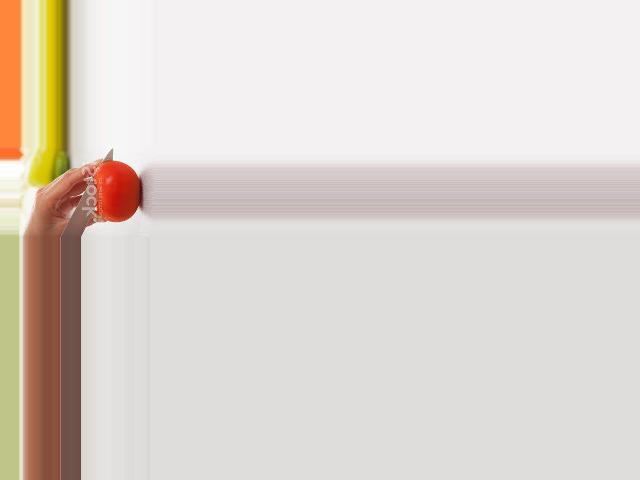tomato: (93, 160, 141, 223)
